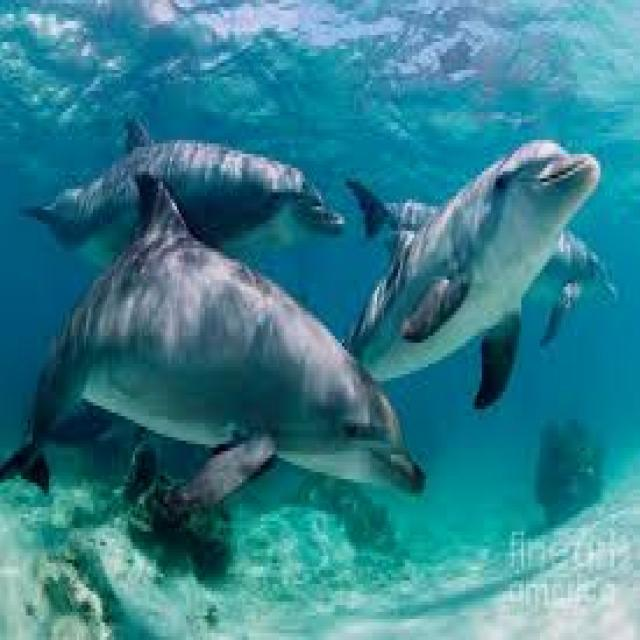dolphin: (21, 217, 440, 616), (352, 88, 606, 420)
